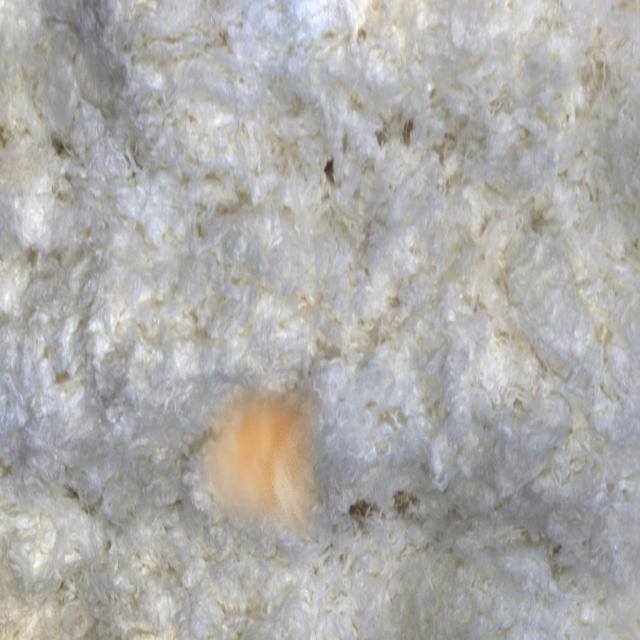dust: (194, 369, 329, 539)
